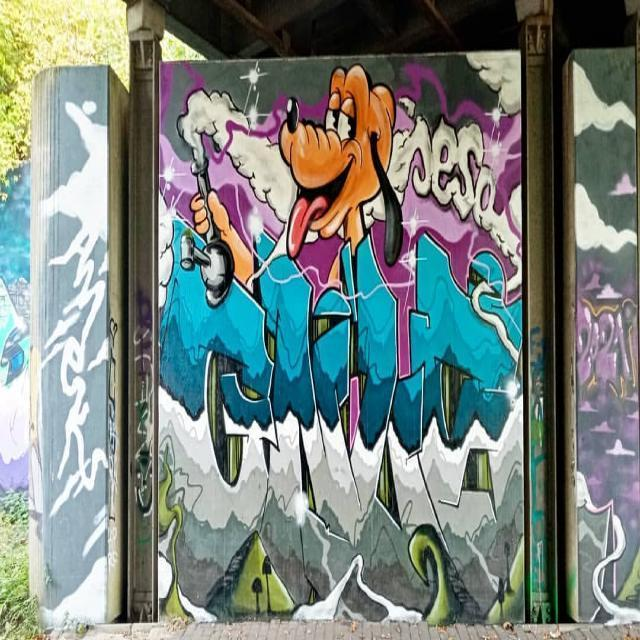nonspitting: (157, 236, 521, 457)
spitting: (277, 63, 404, 259)
